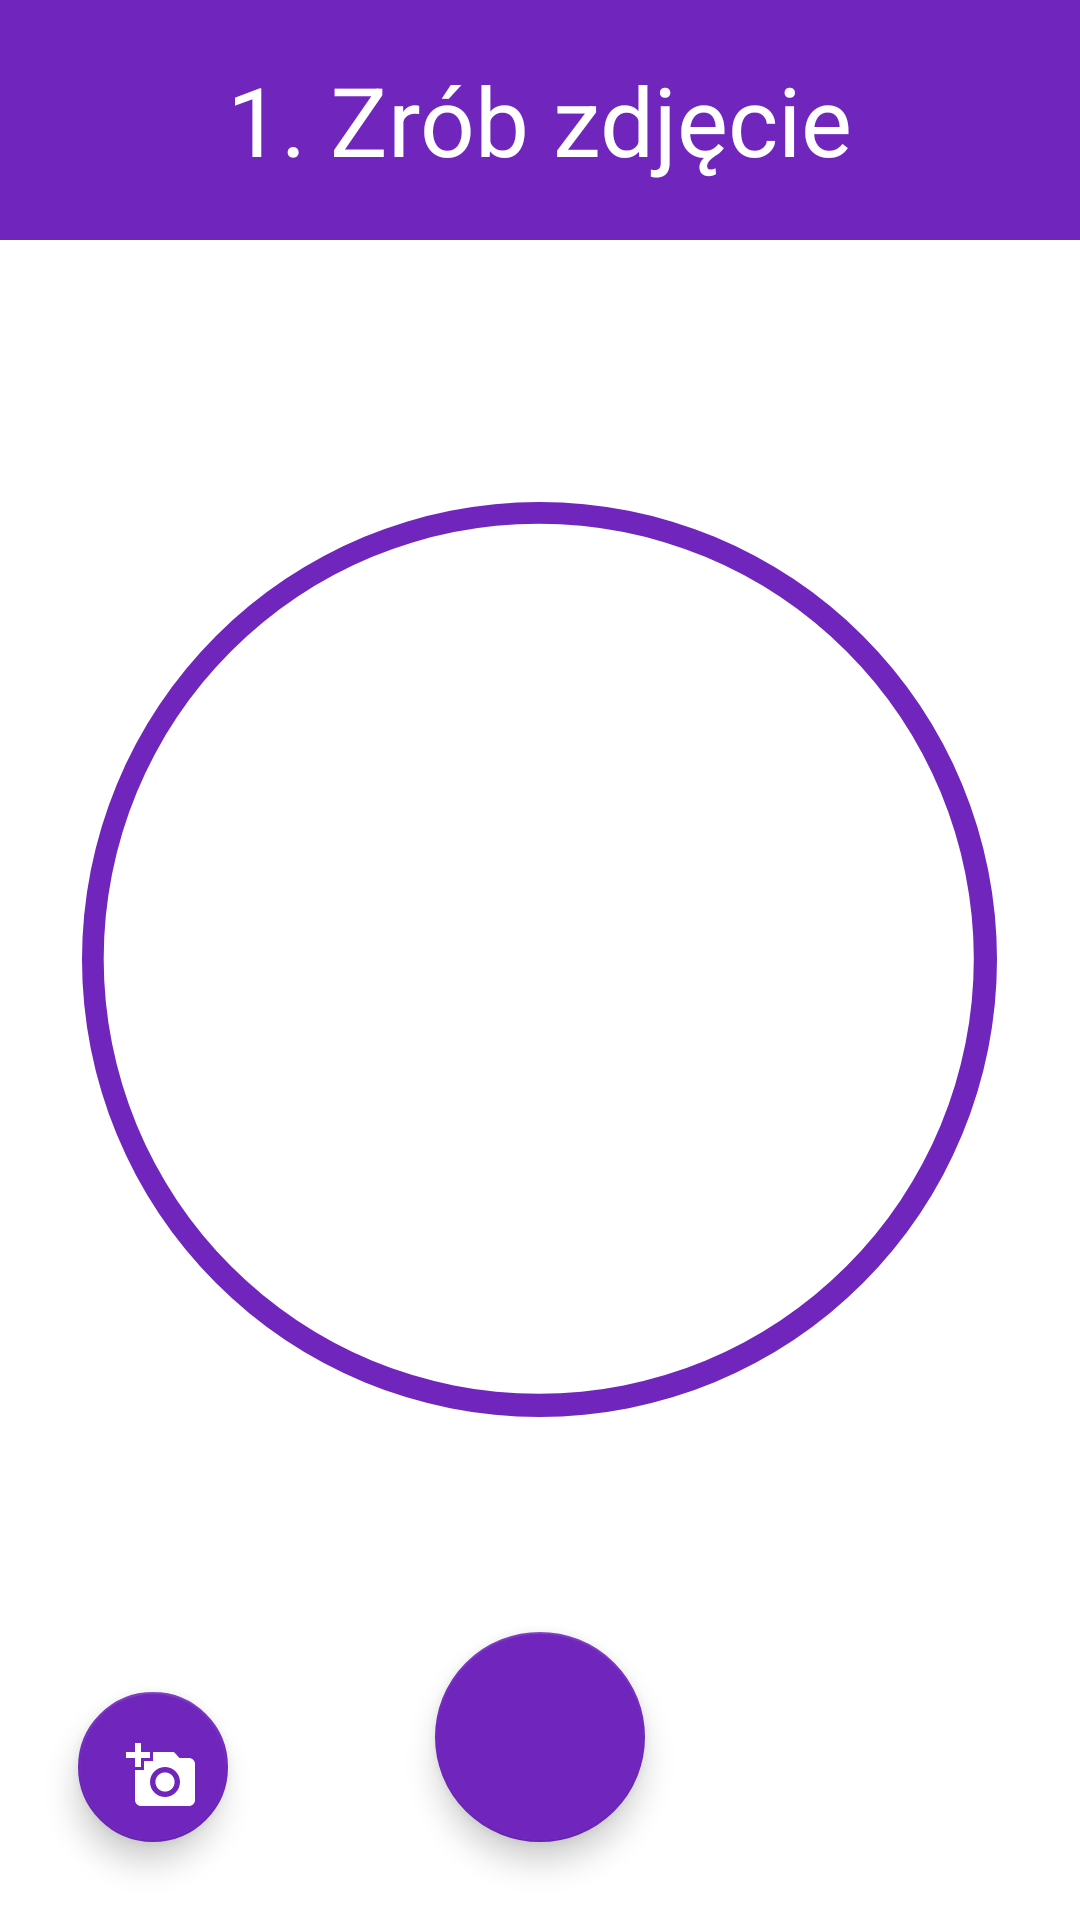

Named icons in this screenshot (1080x1920) and their bounding boxes, (x1, y1, x2, y2):
add photo: (78, 1692, 228, 1842)
